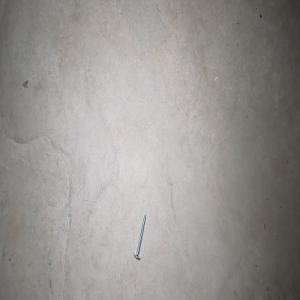Bolt: (133, 212, 146, 259)
